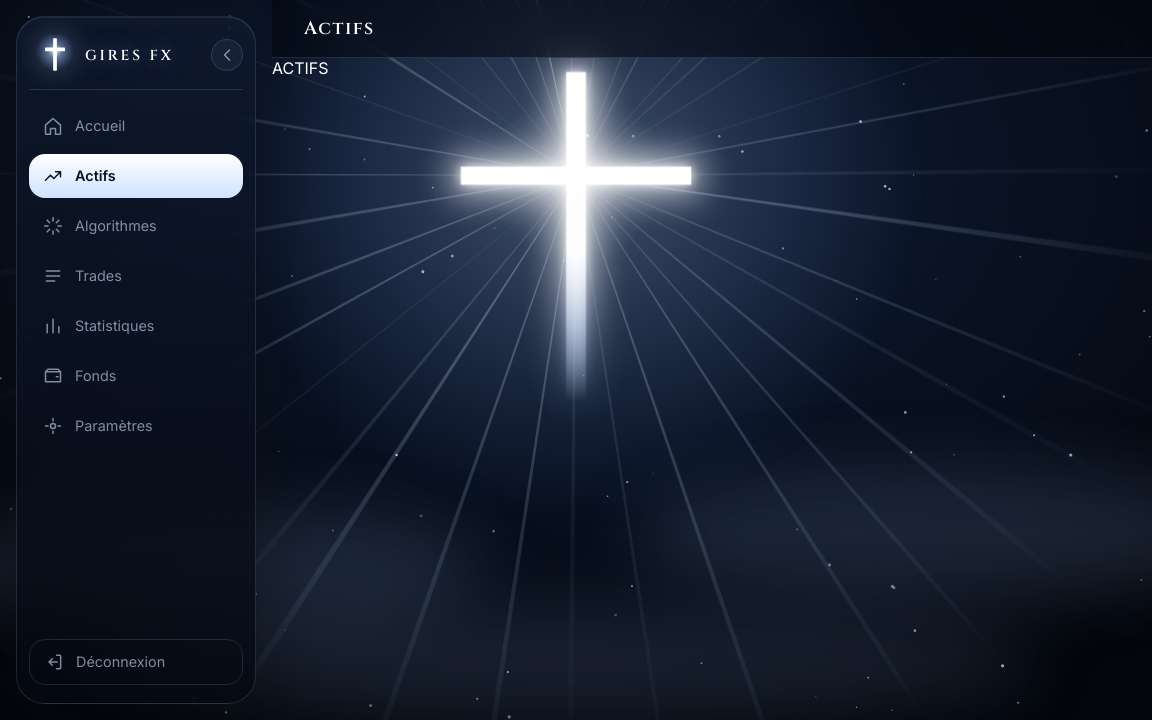
Test: Layout : logo et repli › le logo ramène à l’accueil
What coordinates should you click on to do the following:
click the link with aria-label "retour à l’accueil"
I would click on:
 (104, 55)
Its box is [29, 35, 180, 75].
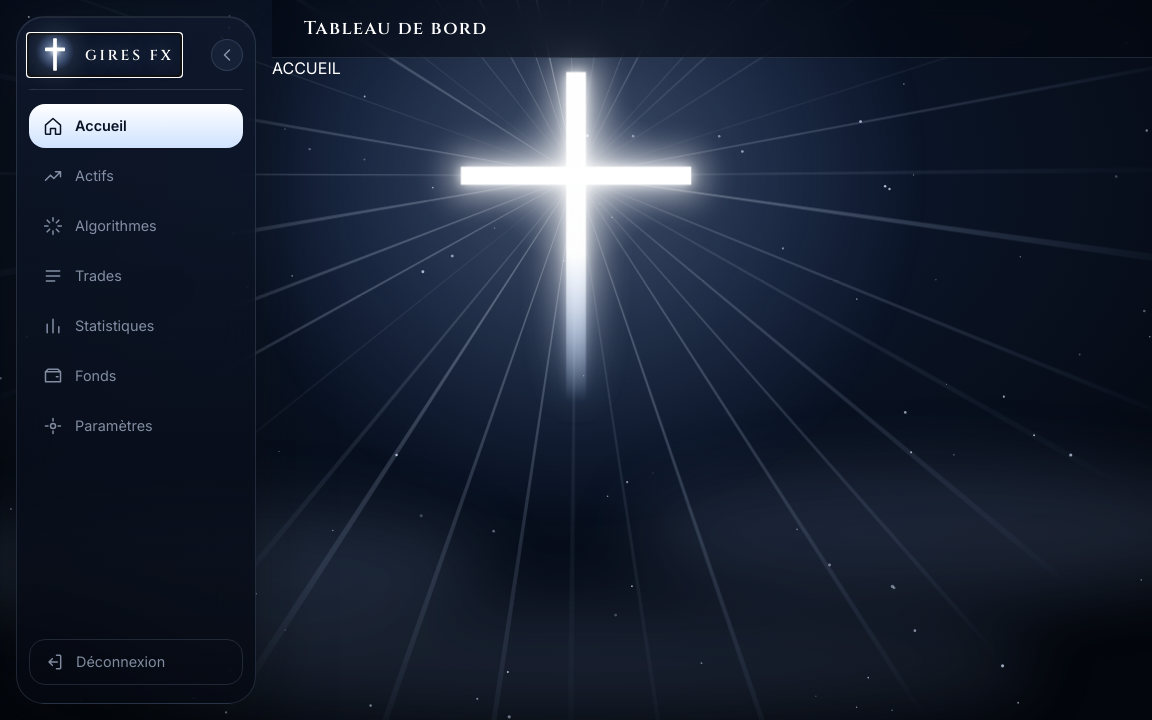
Check: the text "ACCUEIL" is shown, box [272, 58, 341, 78]
